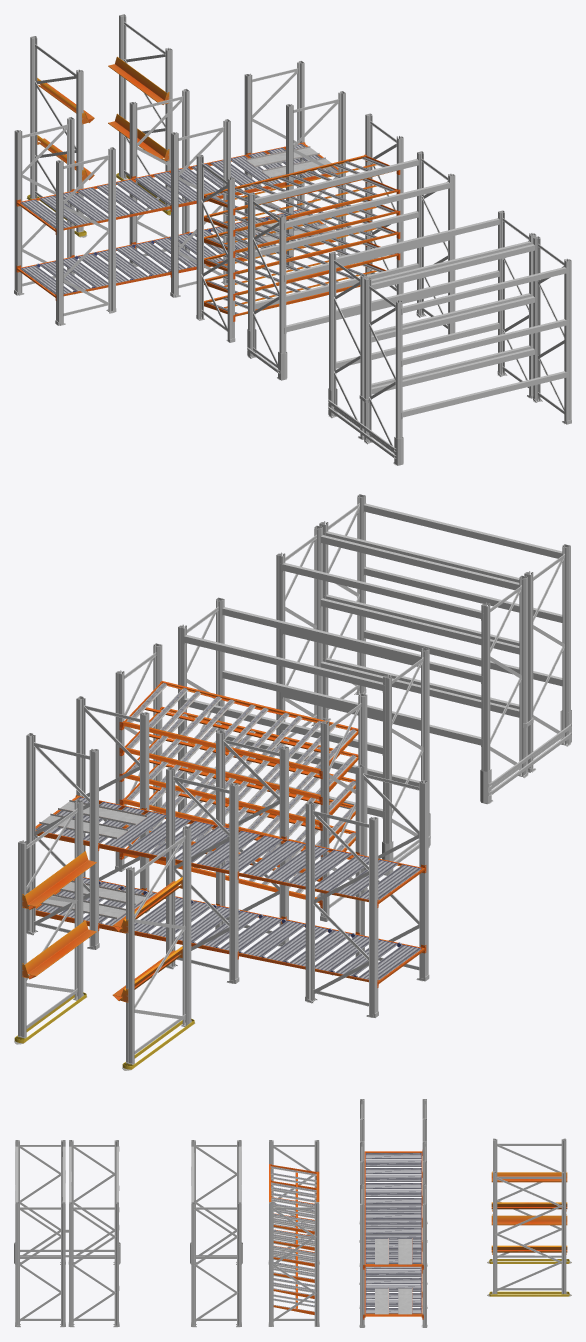
File: Todos_Estanterias_FBX.fbx
The picture shows the model from 3 angles, top to bottom: view 1: azimuth 30°, elevation 25°; view 2: azimuth 150°, elevation 25°; view 3: azimuth 270°, elevation 25°; orthographic projection. The views are drawn at different scales.
Parts seen in each view (by area): view 1: Puntales_Varias, Diagonales.016, Carton_Flow, Diagonales.009, Drive-In; view 2: Puntales_Varias, Diagonales.016, Carton_Flow, Drive-In, Diagonales.009; view 3: Puntales_Varias, Carton_Flow, Diagonales.016, Drive-In, Diagonales.009.
Boxes of the visible parts, bbox=[...] form: Puntales_Varias: bbox=[14, 60, 345, 325]; Diagonales.016: bbox=[328, 210, 571, 465]; Carton_Flow: bbox=[196, 113, 403, 342]; Diagonales.009: bbox=[247, 151, 455, 380]; Drive-In: bbox=[26, 14, 172, 237]; Puntales_Varias: bbox=[26, 696, 429, 1017]; Diagonales.016: bbox=[276, 494, 571, 804]; Carton_Flow: bbox=[115, 643, 367, 921]; Drive-In: bbox=[14, 799, 195, 1070]; Diagonales.009: bbox=[178, 597, 430, 875]; Puntales_Varias: bbox=[359, 1099, 427, 1327]; Carton_Flow: bbox=[268, 1140, 319, 1326]; Diagonales.016: bbox=[14, 1140, 120, 1327]; Drive-In: bbox=[487, 1138, 571, 1296]; Diagonales.009: bbox=[190, 1140, 242, 1327].
Bounding box in the file's own units: 463 × 250 × 1028.
